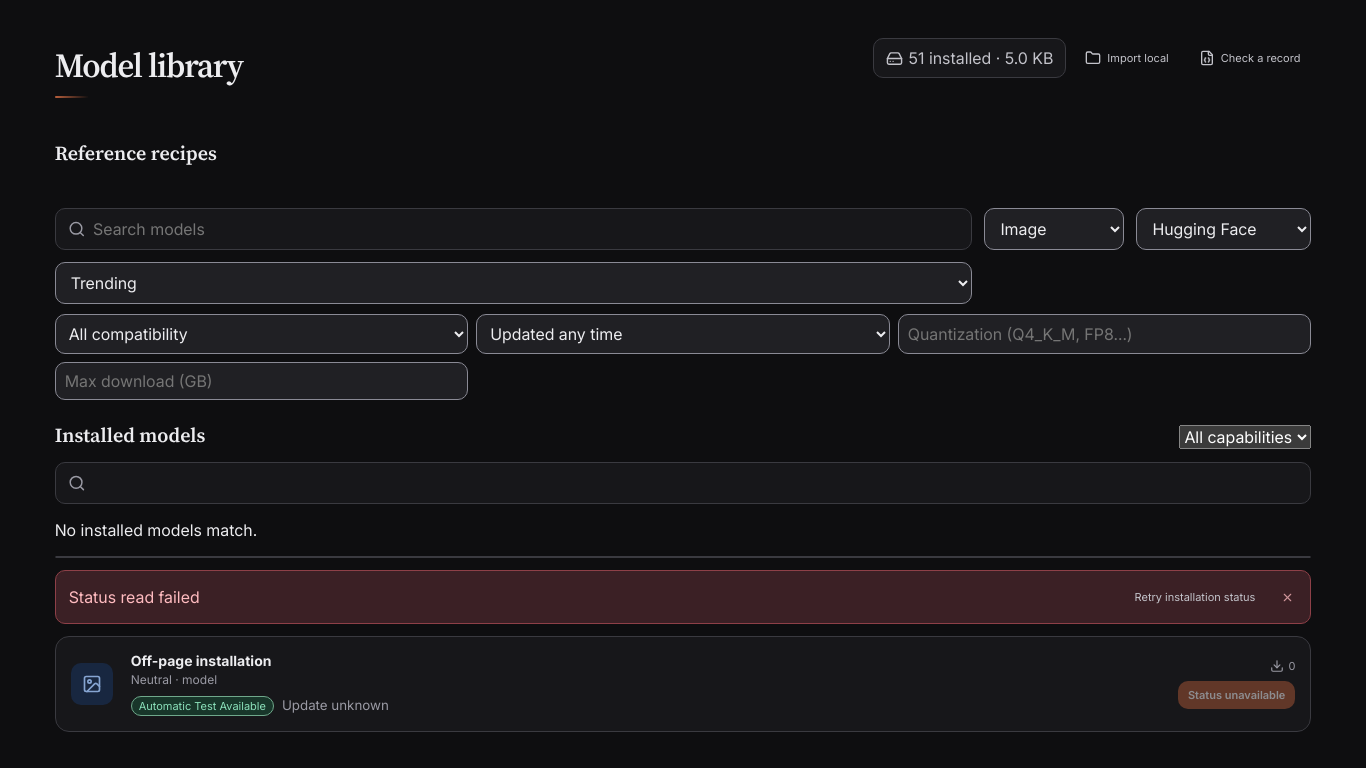
Scenario: keeps catalog actions unavailable while status fails and retries the lookup
The width and height of the screenshot is (1366, 768).
Expected: the button "Status unavailable" is disabled, [1178,681,1295,709]
Click the button "Retry installation status": (1195, 597) [1124,582,1266,612]
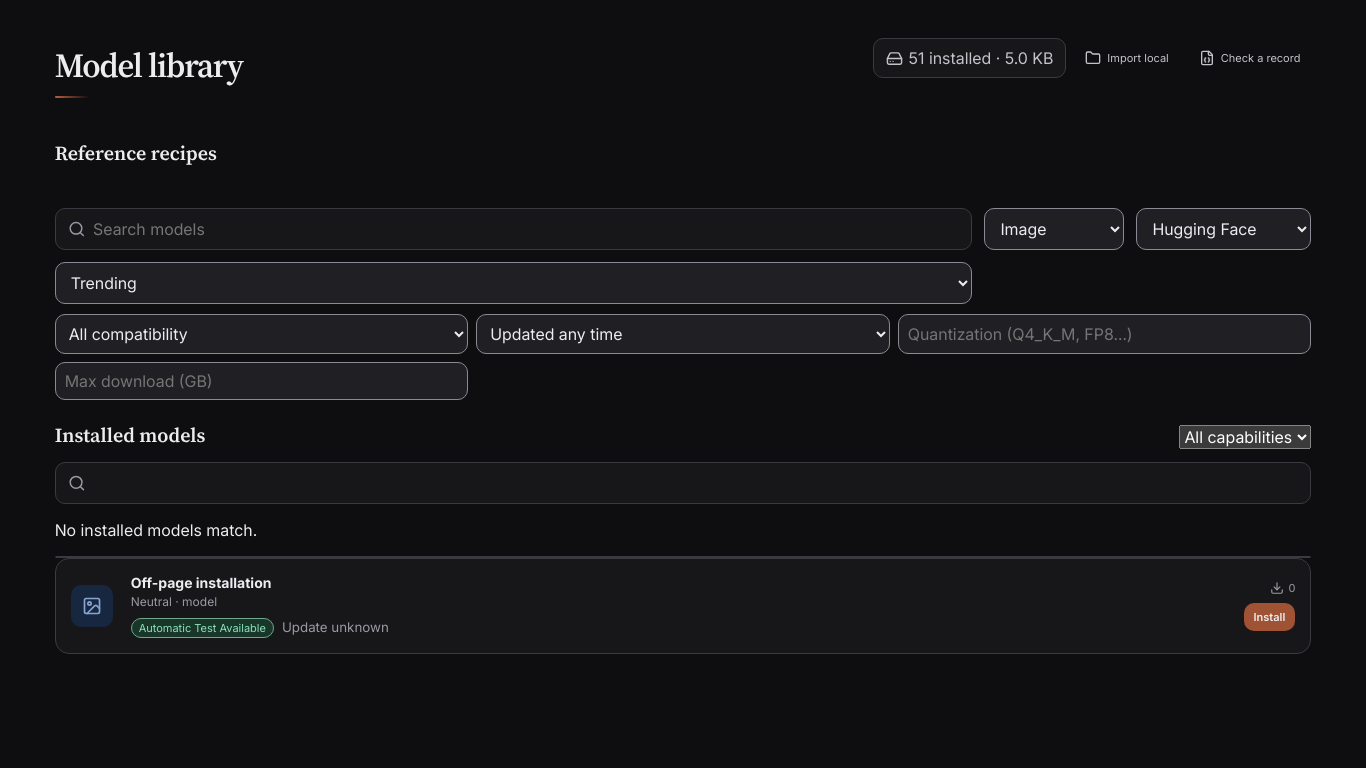
Expected: the button "Install" is enabled, [1244,603,1295,631]
